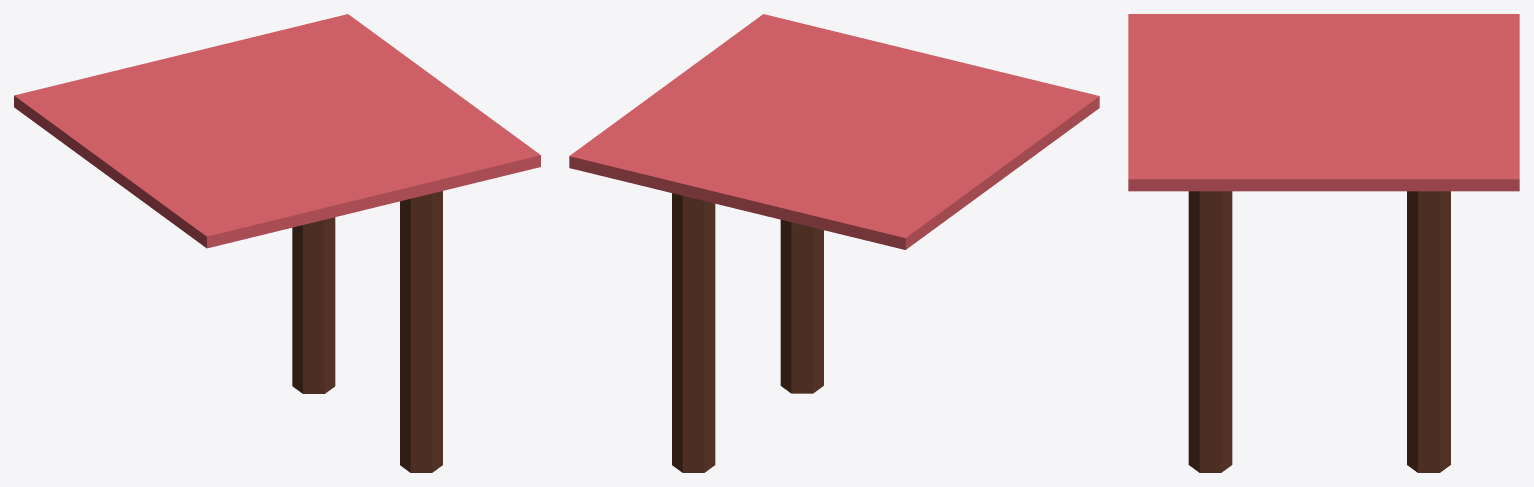
File: EntryShade.fbx
The picture shows the model from 3 angles, left to right: view 1: azimuth 30°, elevation 25°; view 2: azimuth 150°, elevation 25°; view 3: azimuth 270°, elevation 25°; orthographic projection.
Visible parts, largest first — view 1: Cube.001, Cylinder, Cylinder.001; view 2: Cube.001, Cylinder.001, Cylinder; view 3: Cube.001, Cylinder, Cylinder.001.
Part boxes in pixels (x1,y1,x2,y2): Cube.001: (14,14,540,248); Cylinder: (400,191,442,472); Cylinder.001: (292,217,335,393); Cube.001: (569,14,1099,249); Cylinder.001: (672,193,715,472); Cylinder: (780,220,823,393); Cube.001: (1128,14,1519,191); Cylinder: (1188,191,1232,472); Cylinder.001: (1407,191,1450,472).
Bounding box in the file's own units: 818 × 750 × 818.
